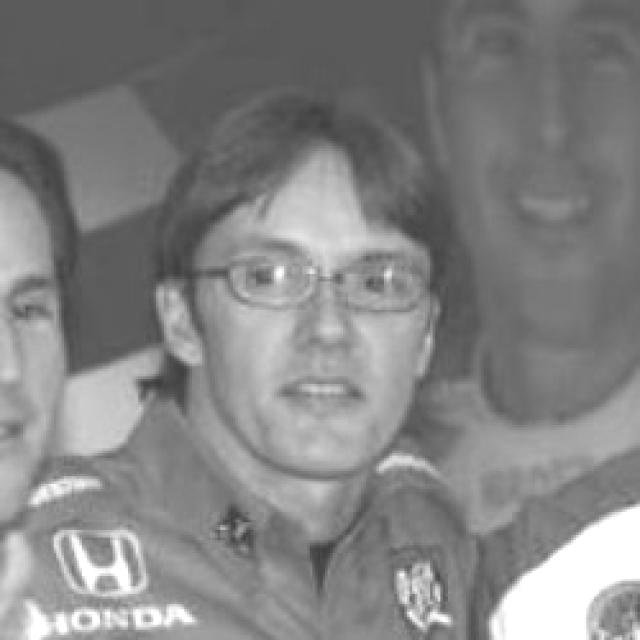real: (190, 140, 445, 478), (212, 246, 421, 307)
